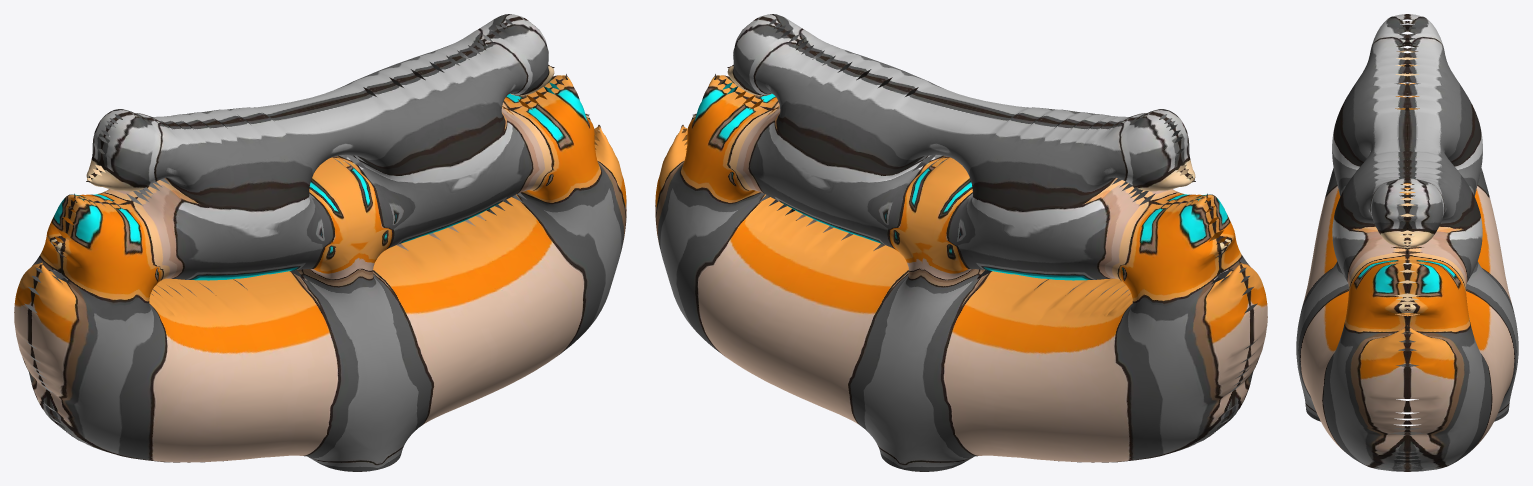
Rendered from south_bulkhead.glb.
The picture shows the model from 3 angles, left to right: view 1: azimuth 30°, elevation 25°; view 2: azimuth 150°, elevation 25°; view 3: azimuth 270°, elevation 25°; orthographic projection. The views are drawn at different scales.
Parts seen in each view (by area): view 1: south_bulkhead; view 2: south_bulkhead; view 3: south_bulkhead.
Boxes of the visible parts, left/top/right/bottom form: south_bulkhead: left=14, top=14, right=626, bottom=471; south_bulkhead: left=655, top=14, right=1267, bottom=471; south_bulkhead: left=1296, top=14, right=1518, bottom=471.
Bounding box in the file's own units: 0.9889 × 0.5853 × 0.3796.
1 material, 1 textured.
